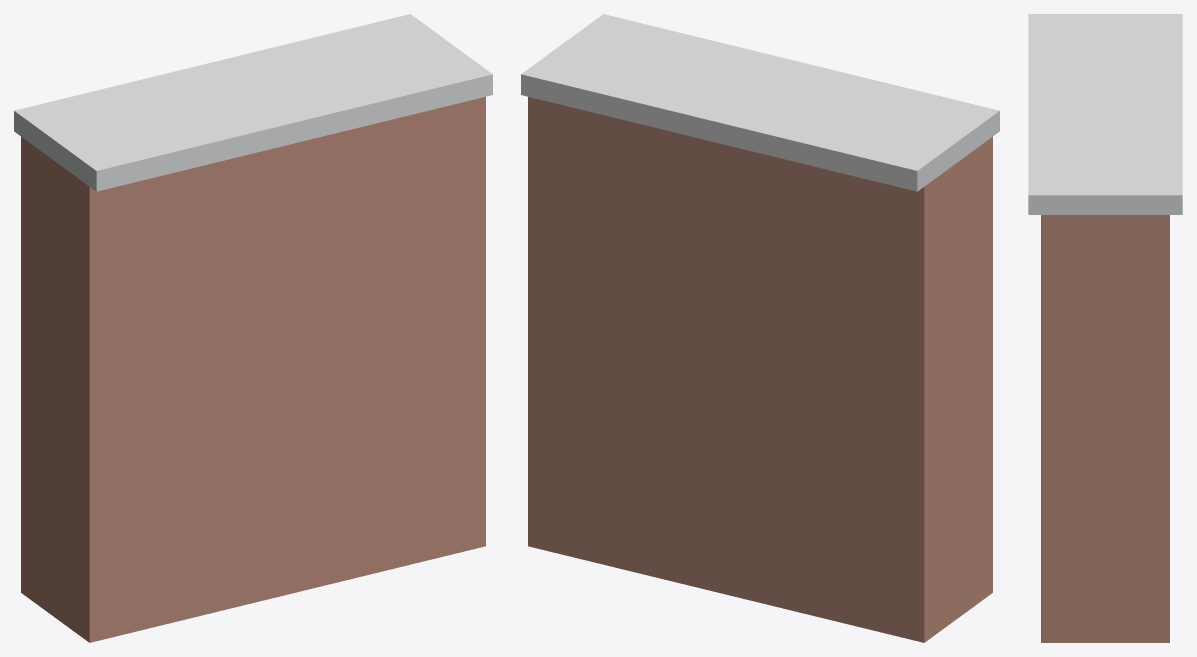
Rendered from circulation.balustrade.parapet.glb.
The picture shows the model from 3 angles, left to right: view 1: azimuth 30°, elevation 25°; view 2: azimuth 150°, elevation 25°; view 3: azimuth 270°, elevation 25°; orthographic projection. The views are drawn at different scales.
Visible parts, largest first — view 1: main__brick, main__aluminium; view 2: main__brick, main__aluminium; view 3: main__brick, main__aluminium.
Boxes of the visible parts, x1,y1,x2,y2 form: main__brick: (21, 97, 485, 642); main__aluminium: (14, 14, 492, 191); main__brick: (528, 97, 992, 642); main__aluminium: (521, 14, 999, 191); main__brick: (1041, 215, 1169, 642); main__aluminium: (1028, 14, 1182, 214).
Bounding box in the file's own units: 1 × 1.15 × 0.36.
